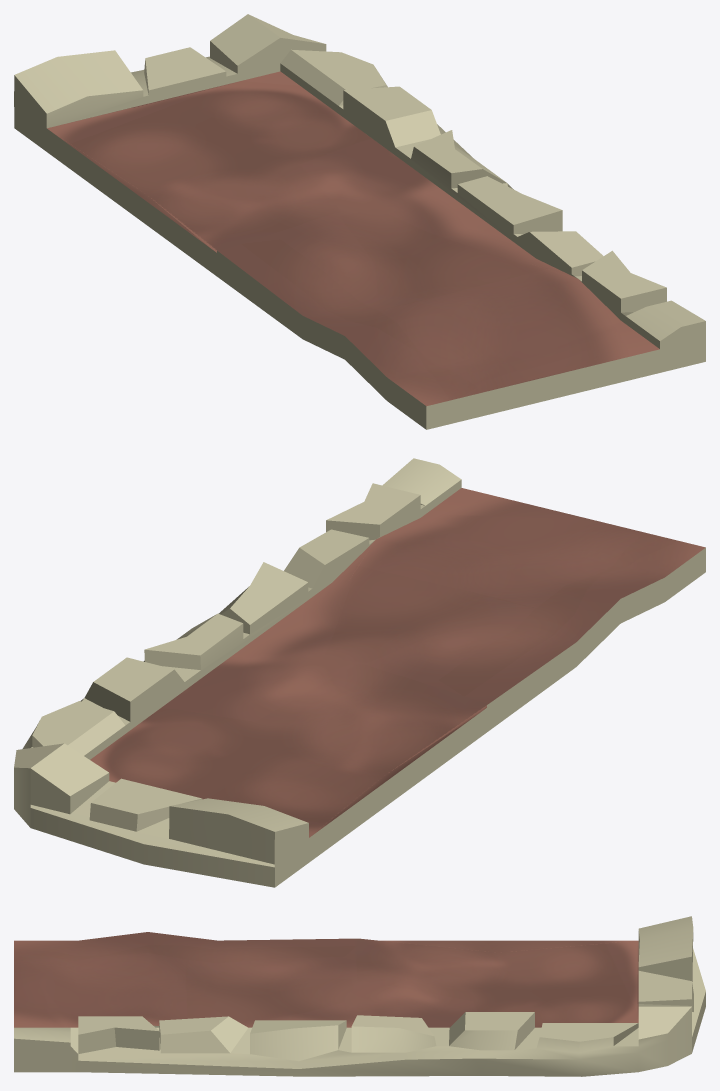
Rendered from plant bed 03.fbx.
3 renders of one model, top to bottom at view 1: azimuth 30°, elevation 25°; view 2: azimuth 150°, elevation 25°; view 3: azimuth 270°, elevation 25°, orthographic. The views are drawn at different scales.
Parts seen in each view (by area): view 1: Cube.002; view 2: Cube.002; view 3: Cube.002.
Boxes of the visible parts, x1,y1,x2,y2 form: Cube.002: (14, 14, 705, 429); Cube.002: (14, 458, 705, 887); Cube.002: (14, 916, 705, 1076).
Bounding box in the file's own units: 285 × 55.18 × 700.
